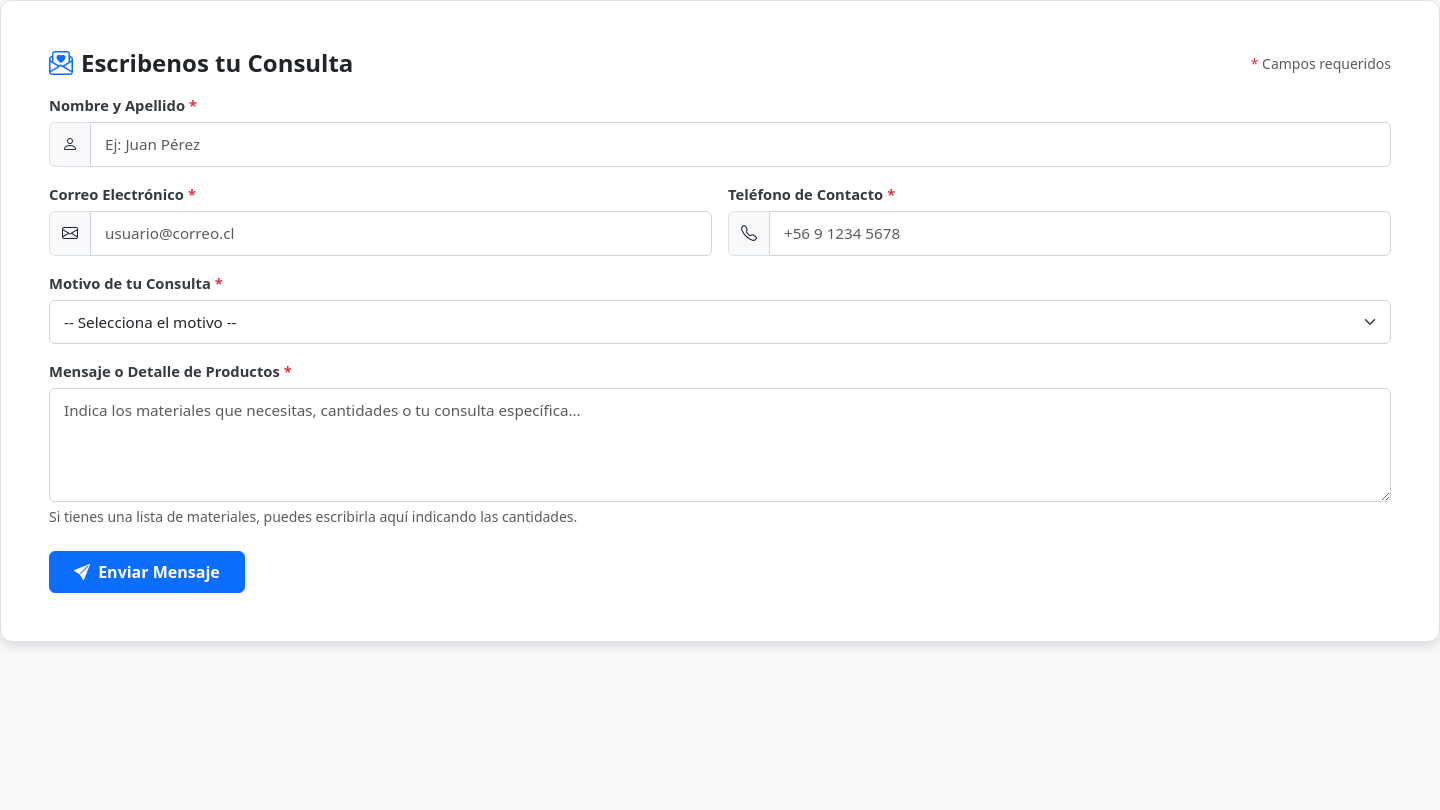
Scenario: FormularioContacto › muestra los errores de campos obligatorios al enviar vacío
Click the button "Enviar Mensaje".
click(147, 572)  # box [49,551,245,593]
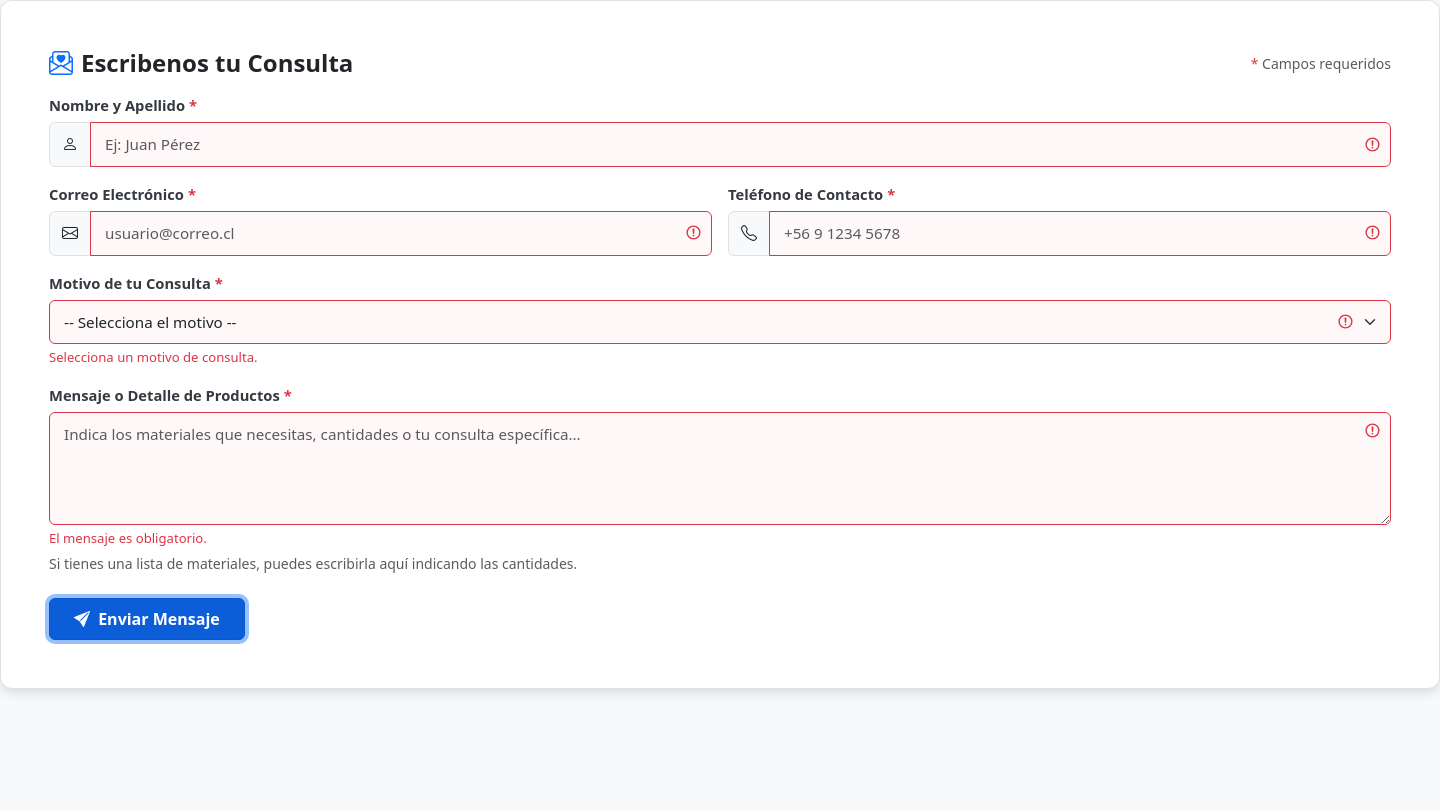
Expected: the text "Selecciona un motivo de consulta." is shown, [49,348,258,366]
Expected: the text "El mensaje es obligatorio." is shown, [49,529,207,547]
